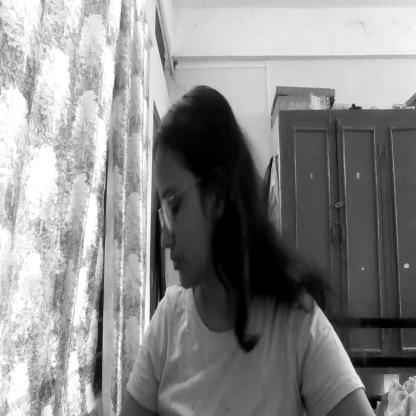Distracted: (148, 109, 233, 308)
